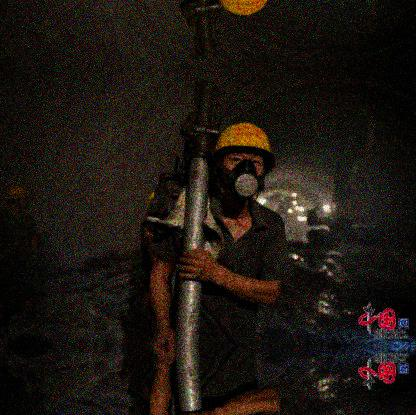helmet: (214, 122, 278, 202), (5, 185, 33, 212)
